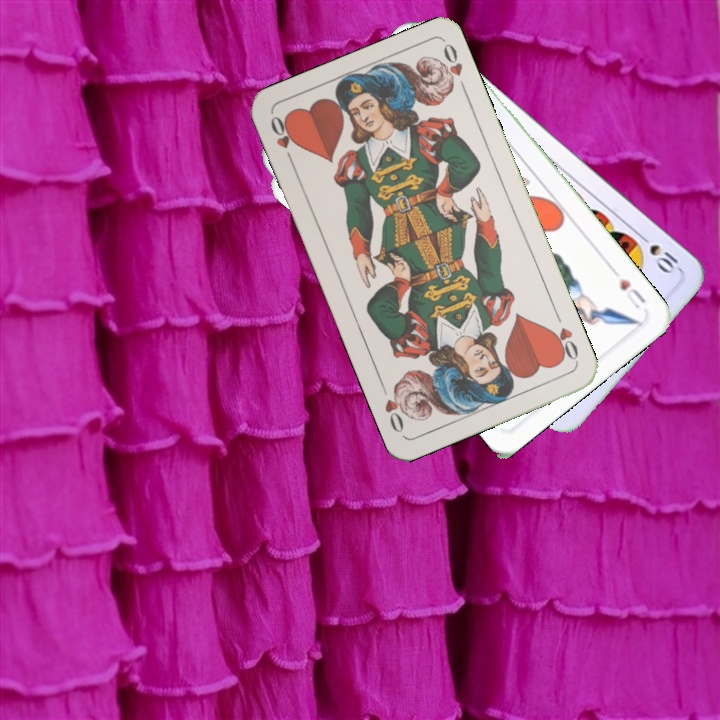HO: (546, 308, 581, 365), (266, 112, 298, 168)
HU: (615, 274, 648, 312)
S10: (634, 229, 681, 276)
